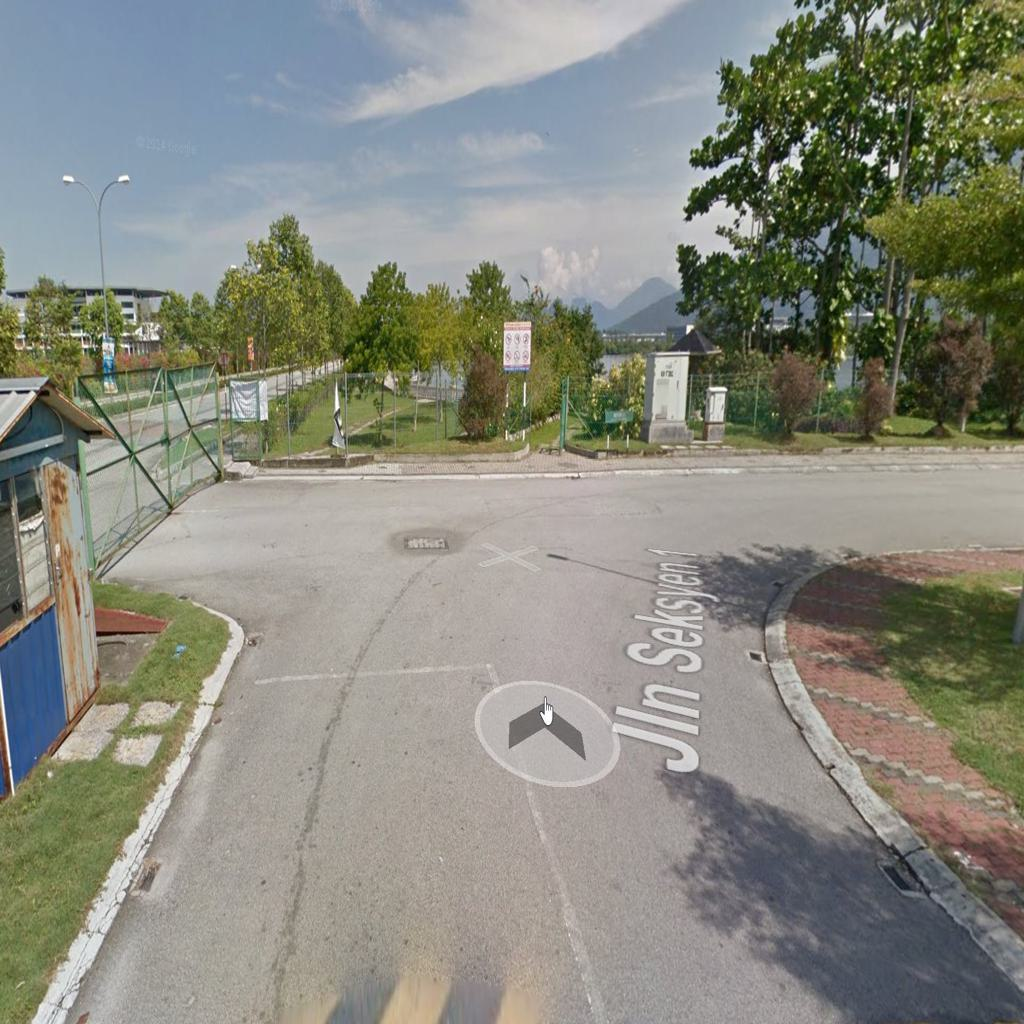Junction: (684, 445, 1024, 641)
